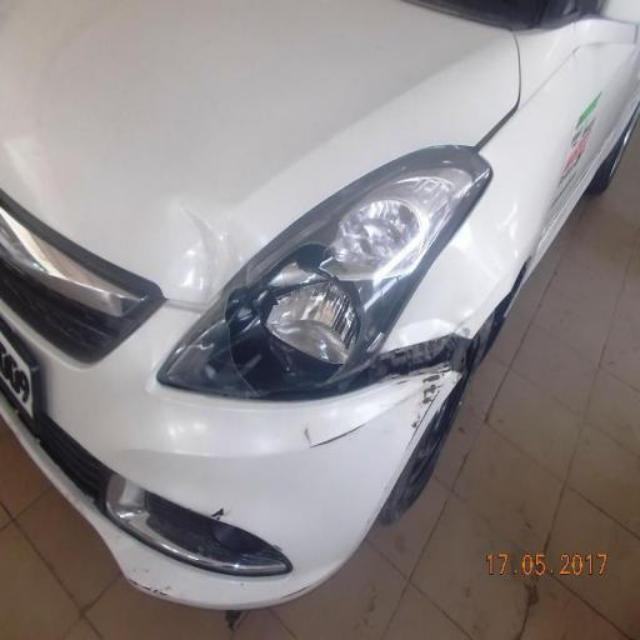dent: (387, 238, 509, 352), (173, 200, 239, 305)
dislocated part: (167, 338, 471, 408)
lamp broken: (219, 231, 381, 393)
rub: (402, 374, 448, 463)
scratch: (303, 420, 379, 452), (125, 570, 175, 601), (207, 499, 231, 524)
